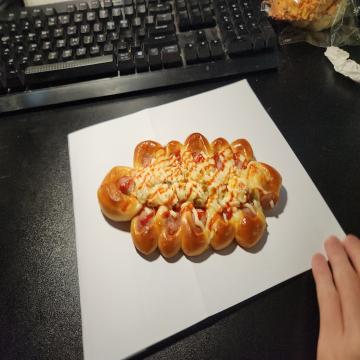pizza_bread: (97, 134, 283, 258)
